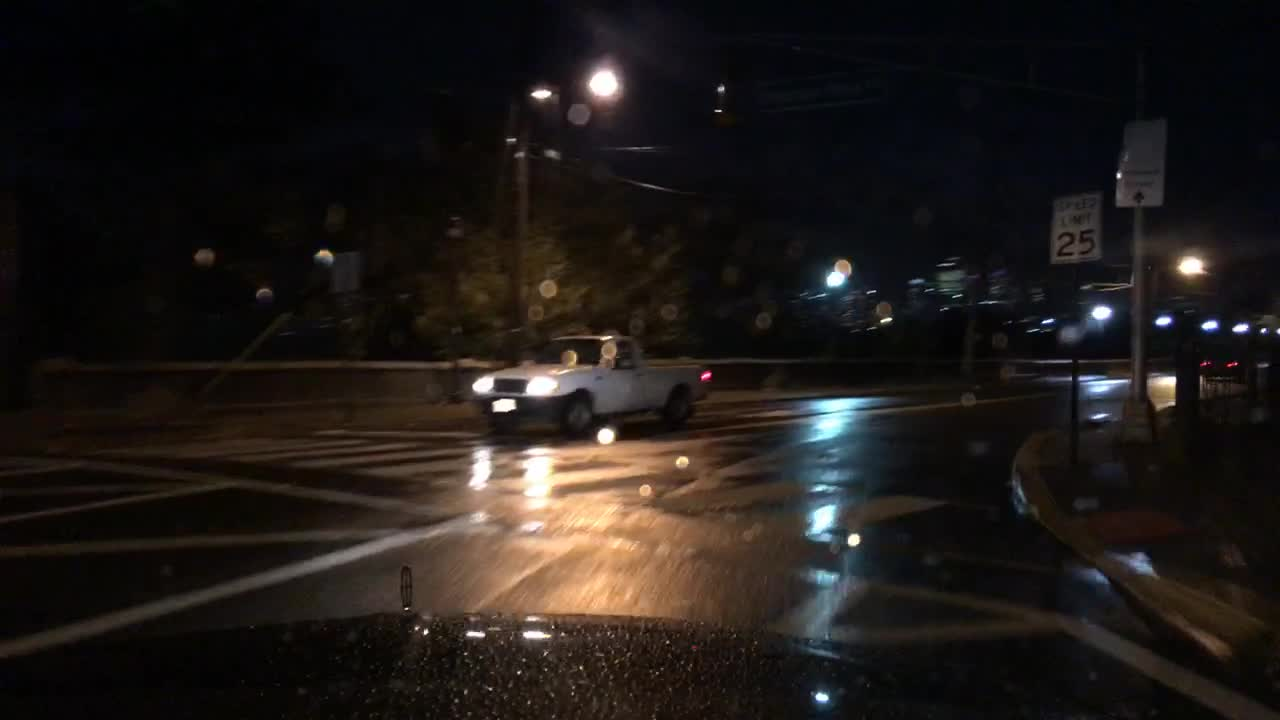car: (1196, 339, 1247, 380)
traffic sign: (757, 71, 889, 116), (1110, 118, 1164, 207), (1048, 194, 1098, 261), (933, 266, 968, 293)
truck: (471, 332, 712, 442)
